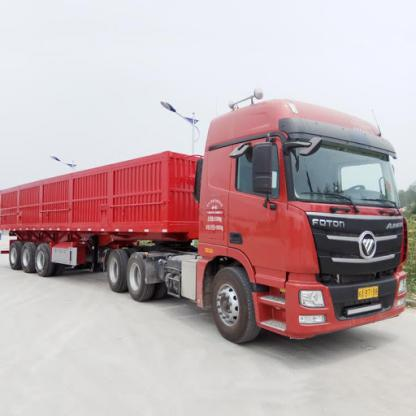normal-truck: (0, 92, 415, 382)
